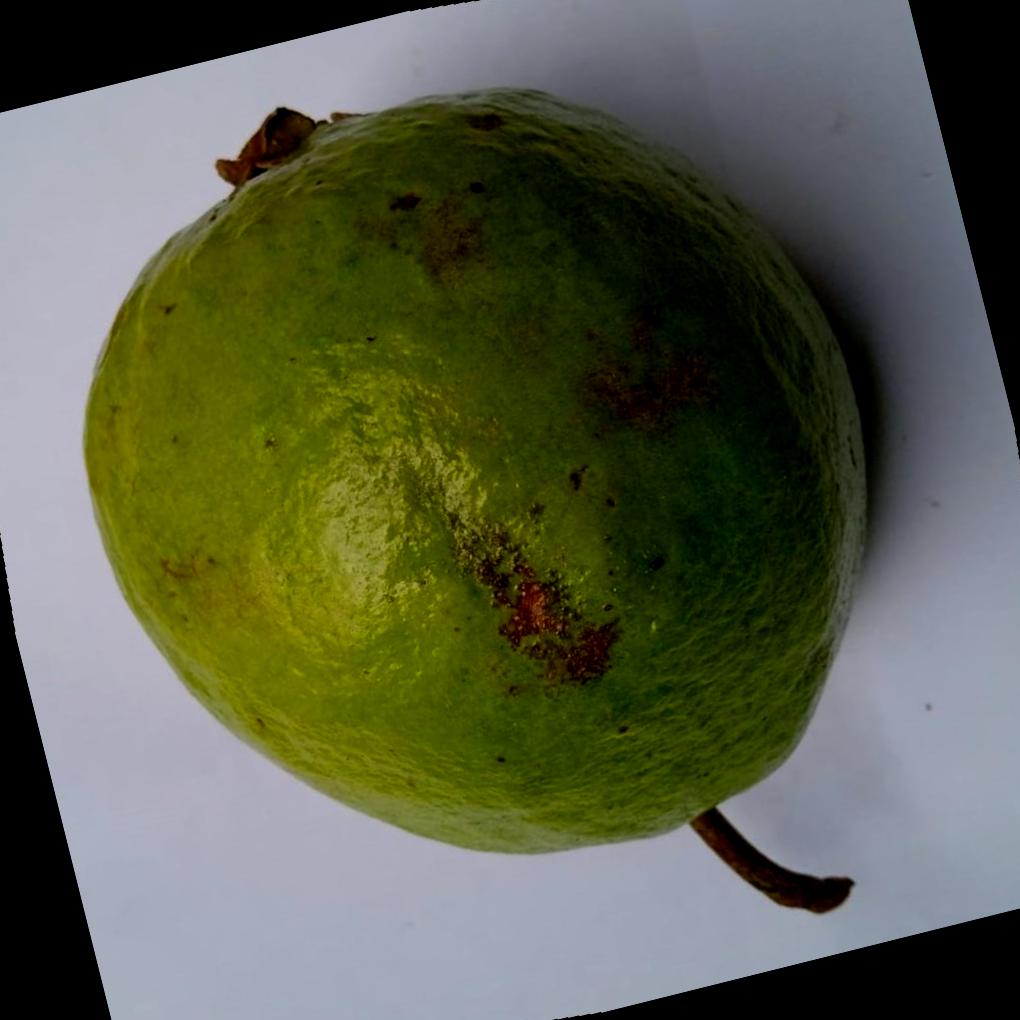FreshGuava: (82, 84, 876, 910)
